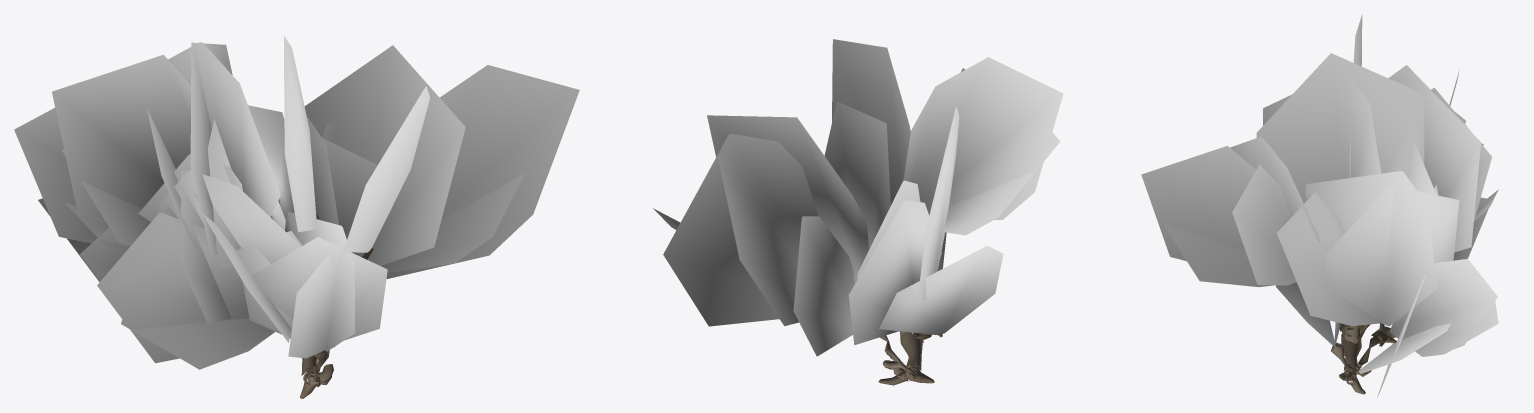
File: shoot_tree_4.glb
The picture shows the model from 3 angles, left to right: view 1: azimuth 30°, elevation 25°; view 2: azimuth 150°, elevation 25°; view 3: azimuth 270°, elevation 25°; orthographic projection. The views are drawn at different scales.
Parts seen in each view (by area): view 1: shoot_tree_4; view 2: shoot_tree_4; view 3: shoot_tree_4.
Part boxes in pixels (left/top/right/bottom): shoot_tree_4: left=14, top=36, right=579, bottom=398; shoot_tree_4: left=653, top=39, right=1063, bottom=385; shoot_tree_4: left=1141, top=14, right=1498, bottom=397.
Size of the model in its own units: 5.88 by 4.15 by 4.39.
